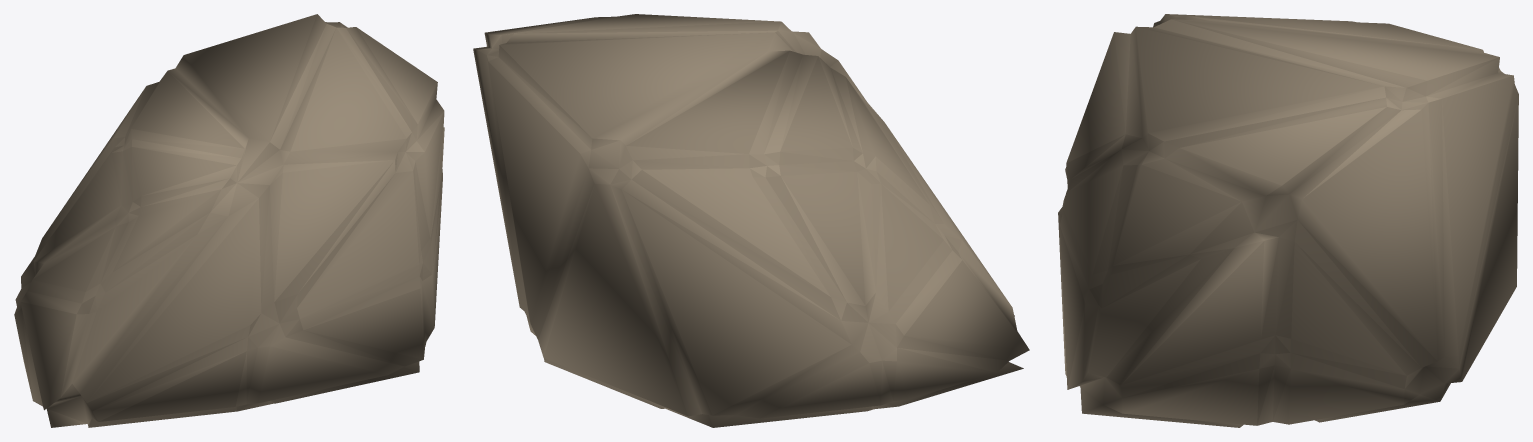
Rendered from Granit_V2_4_LOD0.fbx.
The picture shows the model from 3 angles, left to right: view 1: azimuth 30°, elevation 25°; view 2: azimuth 150°, elevation 25°; view 3: azimuth 270°, elevation 25°; orthographic projection. The views are drawn at different scales.
Visible parts, largest first — view 1: Granit_V2_4; view 2: Granit_V2_4; view 3: Granit_V2_4.
Part boxes in pixels (x1,y1,x2,y2): Granit_V2_4: (14,14,444,427); Granit_V2_4: (473,14,1029,427); Granit_V2_4: (1058,14,1518,427).
Bounding box in the file's own units: 120 × 68.21 × 81.47.
